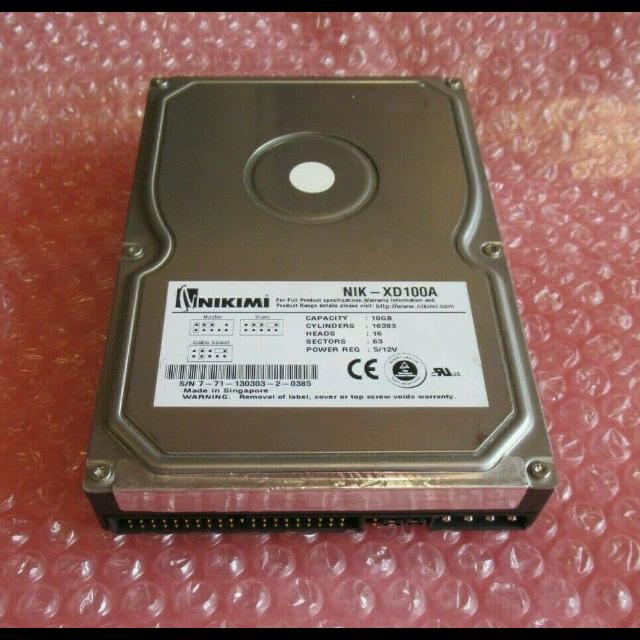HDD: (82, 76, 558, 538)
